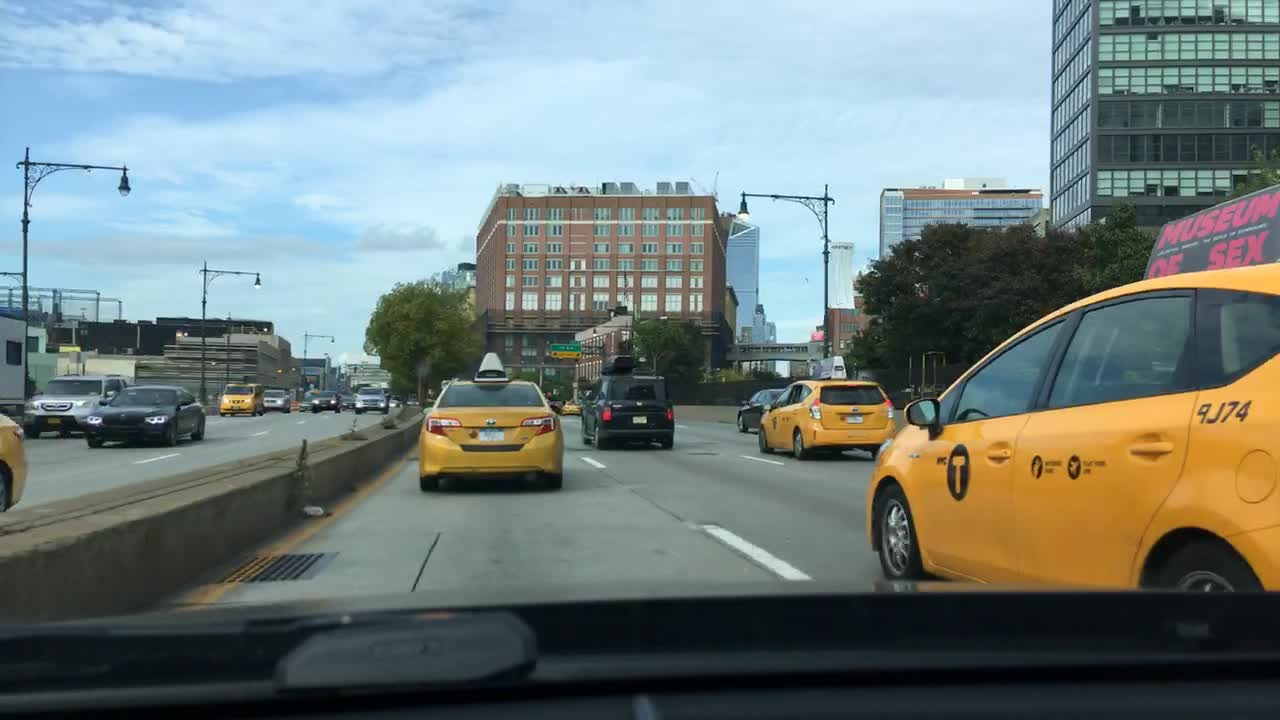car: (861, 254, 1277, 594), (417, 350, 568, 488), (754, 375, 900, 461), (83, 385, 209, 451), (580, 367, 679, 449), (22, 372, 127, 438), (0, 406, 28, 517), (734, 384, 789, 428), (220, 379, 265, 418), (354, 383, 390, 413), (260, 387, 292, 414), (308, 389, 341, 414), (563, 397, 581, 414), (338, 393, 357, 408), (297, 396, 315, 410), (549, 396, 562, 413), (387, 394, 400, 407)
traffic sign: (548, 340, 583, 357)
